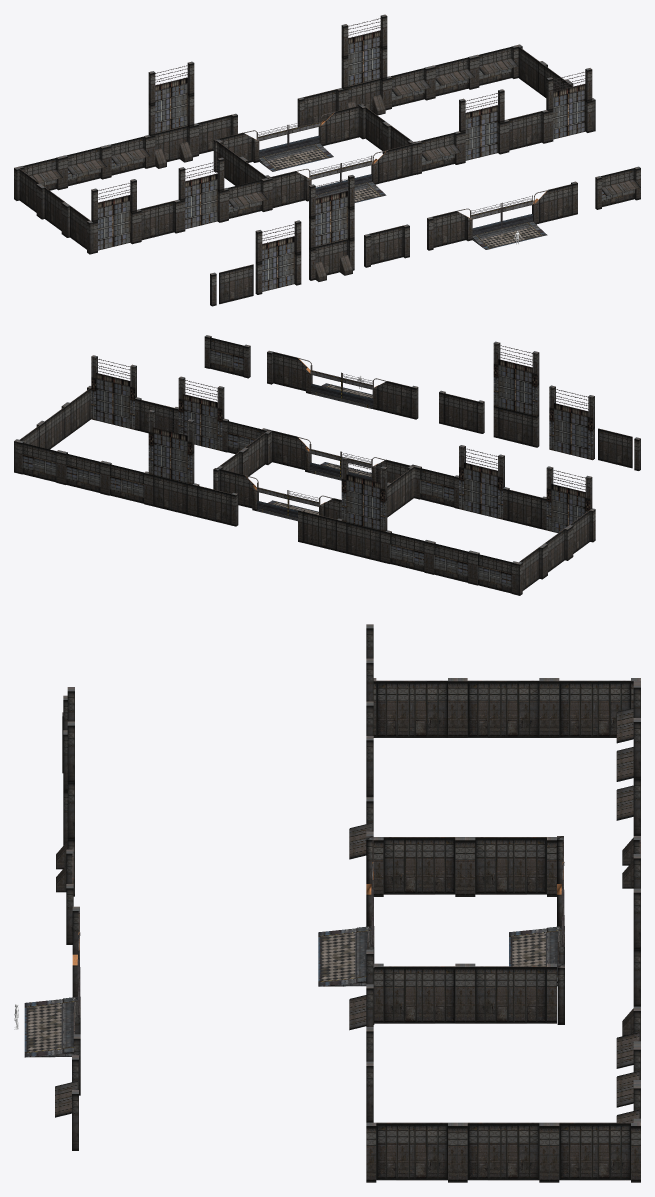
3 renders of one model, top to bottom at view 1: azimuth 30°, elevation 25°; view 2: azimuth 150°, elevation 25°; view 3: azimuth 270°, elevation 25°, orthographic. The views are drawn at different scales.
Visible parts, largest first — view 1: Plane.001_Piece_Curve_Piece.004, Plane.006, Plane.008, Plane.002, Plane.003, Plane.005, Plane.001_Piece_Curve_Piece, Plane.001_Piece_Curve_Piece.001, Plane.001_Piece_Curve_Piece.001_Piece.003, Plane.004, Plane.001_Piece_Curve_Piece.002, Plane.001_Piece_Curve_Piece.003; view 2: Plane.001_Piece_Curve_Piece.004, Plane.008, Plane.006, Plane.005, Plane.003, Plane.002, Plane.001_Piece_Curve_Piece, Plane.001_Piece_Curve_Piece.001, Plane.004, Plane.001_Piece_Curve_Piece.002, Plane.001_Piece_Curve_Piece.001_Piece.003, Plane.001_Piece_Curve_Piece.003; view 3: Plane.001_Piece_Curve_Piece.004, Plane.001_Piece_Curve_Piece.001_Piece.003, Plane.008, Plane.005.
Part boxes in pixels (<box>): Plane.001_Piece_Curve_Piece.004: <box>14,14,595,254</box>; Plane.006: <box>255,220,301,294</box>; Plane.008: <box>309,175,354,249</box>; Plane.002: <box>309,238,354,281</box>; Plane.003: <box>364,224,409,267</box>; Plane.005: <box>595,166,640,209</box>; Plane.001_Piece_Curve_Piece: <box>427,208,472,250</box>; Plane.001_Piece_Curve_Piece.001: <box>532,181,577,224</box>; Plane.001_Piece_Curve_Piece.001_Piece.003: <box>472,221,547,249</box>; Plane.004: <box>219,264,253,304</box>; Plane.001_Piece_Curve_Piece.002: <box>470,203,501,235</box>; Plane.001_Piece_Curve_Piece.003: <box>502,195,533,228</box>; Plane.001_Piece_Curve_Piece.004: <box>14,355,595,595</box>; Plane.008: <box>493,341,539,416</box>; Plane.006: <box>549,385,594,460</box>; Plane.005: <box>204,335,250,378</box>; Plane.003: <box>439,390,484,433</box>; Plane.002: <box>493,406,539,447</box>; Plane.001_Piece_Curve_Piece: <box>372,378,418,419</box>; Plane.001_Piece_Curve_Piece.001: <box>267,350,312,393</box>; Plane.004: <box>598,428,632,468</box>; Plane.001_Piece_Curve_Piece.002: <box>341,373,373,405</box>; Plane.001_Piece_Curve_Piece.001_Piece.003: <box>310,383,372,408</box>; Plane.001_Piece_Curve_Piece.003: <box>310,365,341,398</box>; Plane.001_Piece_Curve_Piece.004: <box>318,624,640,1182</box>; Plane.001_Piece_Curve_Piece.001_Piece.003: <box>24,997,80,1057</box>; Plane.008: <box>67,687,74,839</box>; Plane.005: <box>55,1055,78,1150</box>.
Bounding box in the file's own units: 67.01 × 11.96 × 39.65.
7 materials, 6 textured.
